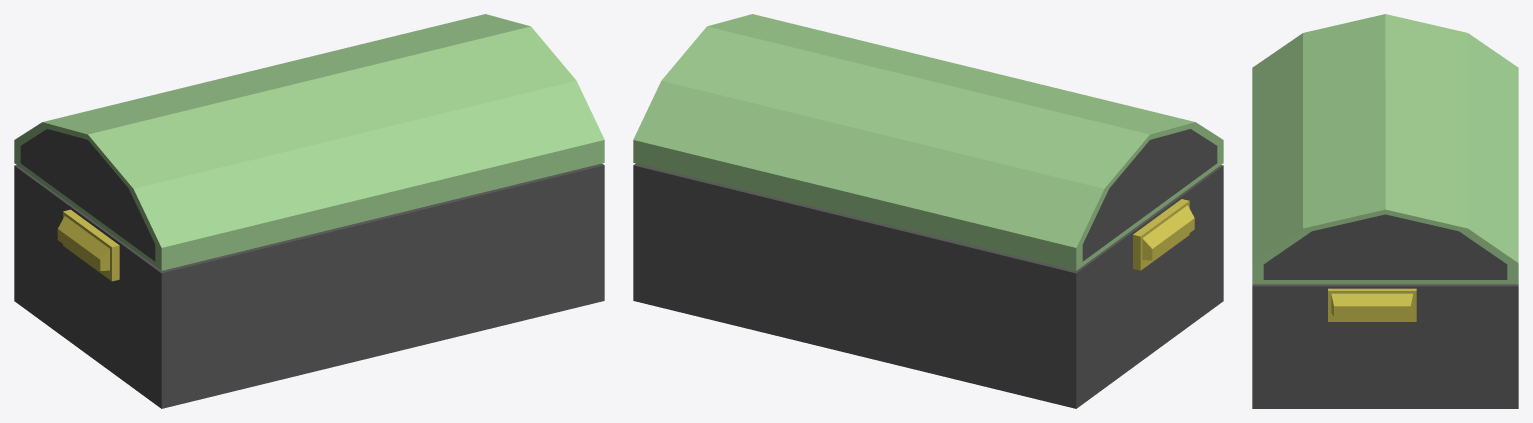
File: Chest.fbx
3 renders of one model, left to right at view 1: azimuth 30°, elevation 25°; view 2: azimuth 150°, elevation 25°; view 3: azimuth 270°, elevation 25°, orthographic. The views are drawn at different scales.
Parts seen in each view (by area): view 1: Chest; view 2: Chest; view 3: Chest.
Boxes of the visible parts, <box> form: Chest: <box>14,14,604,408</box>; Chest: <box>633,14,1223,408</box>; Chest: <box>1252,14,1518,408</box>.
Size of the model in its own units: 370 by 165 by 200.
